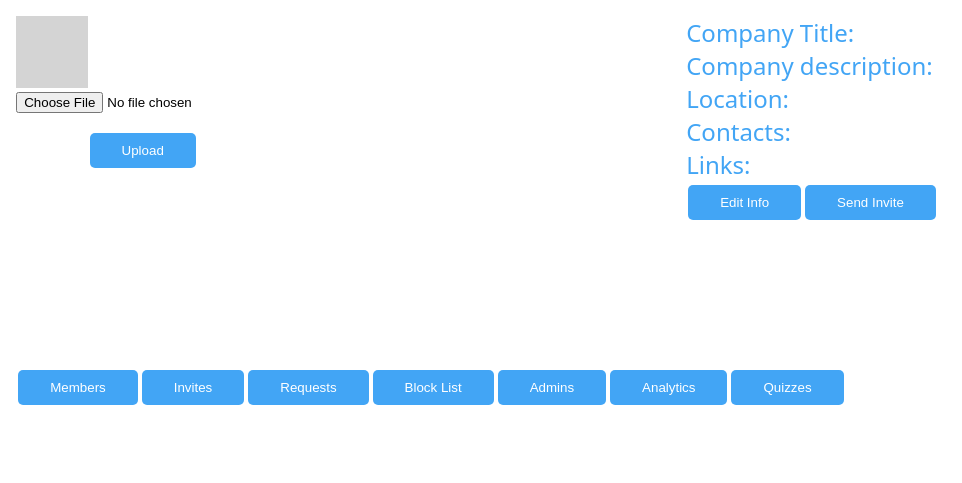
Test case: CompanyContainer › renders CompanyProfileRequests when "Requests" button is clicked
Click the button "Requests": (308, 388) left=248, top=370, right=369, bottom=405
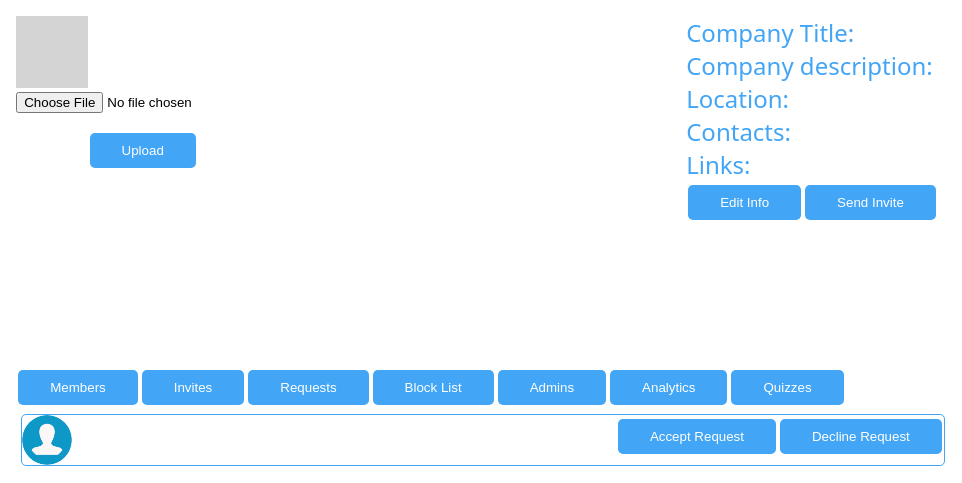
Check: the element with test id "company-profile-requests" is shown, box left=16, top=414, right=938, bottom=466
